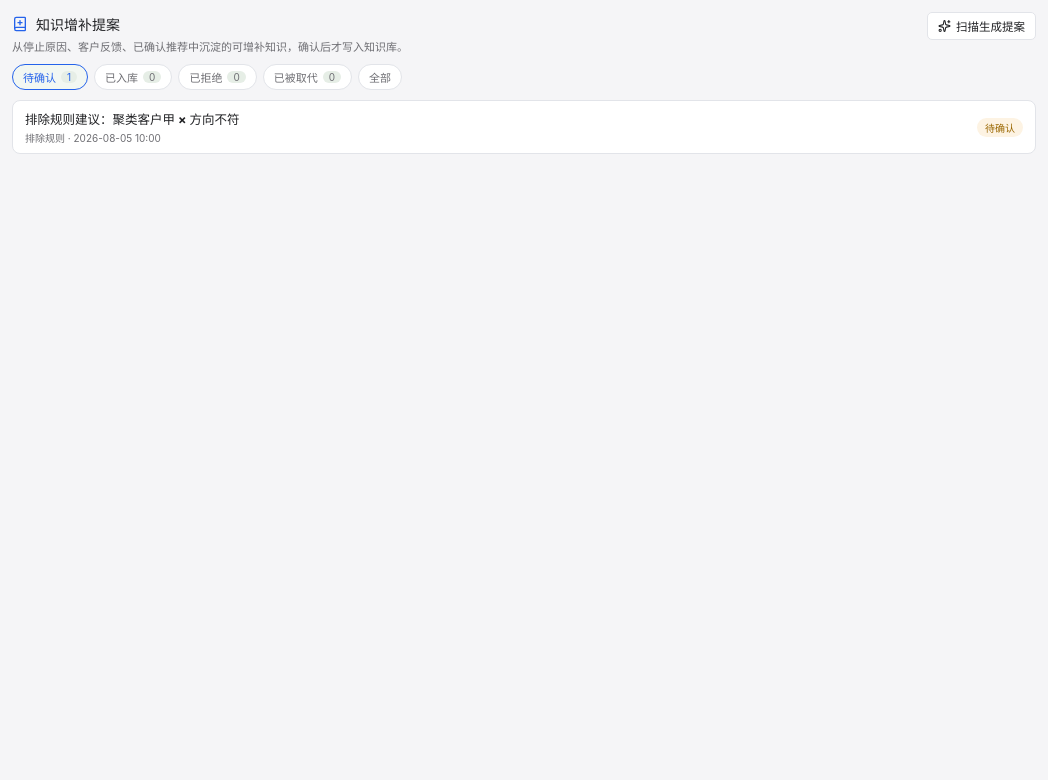
知识增补提案（knowledge_proposal） › 接受两段确认：预检展示影响面，确认后提交并回读刷新
Click the button with aria-label "查看提案：排除规则建议：聚类客户甲 × 方向不符".
click(132, 120)  # box [13,101,1035,153]
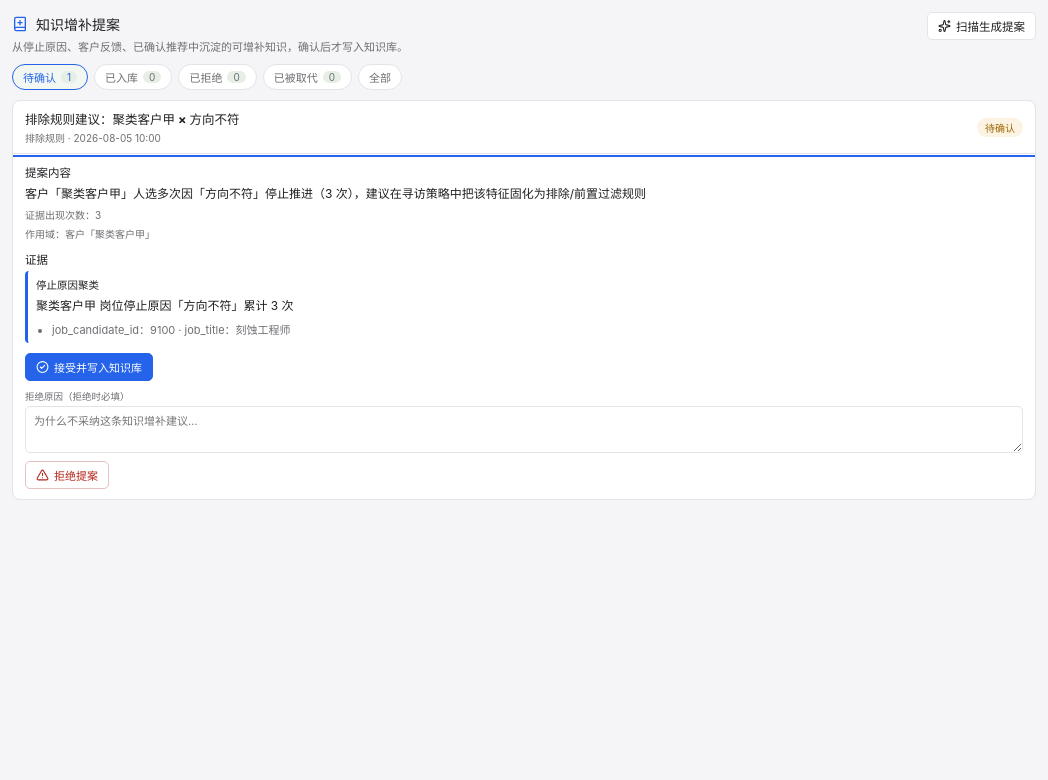
Expected: the heading "提案内容" is shown, [25,166,71,180]
# 第一段：预检，只展示影响面，不发 decision
Click the button "接受并写入知识库".
click(89, 367)  # box [25,353,153,381]
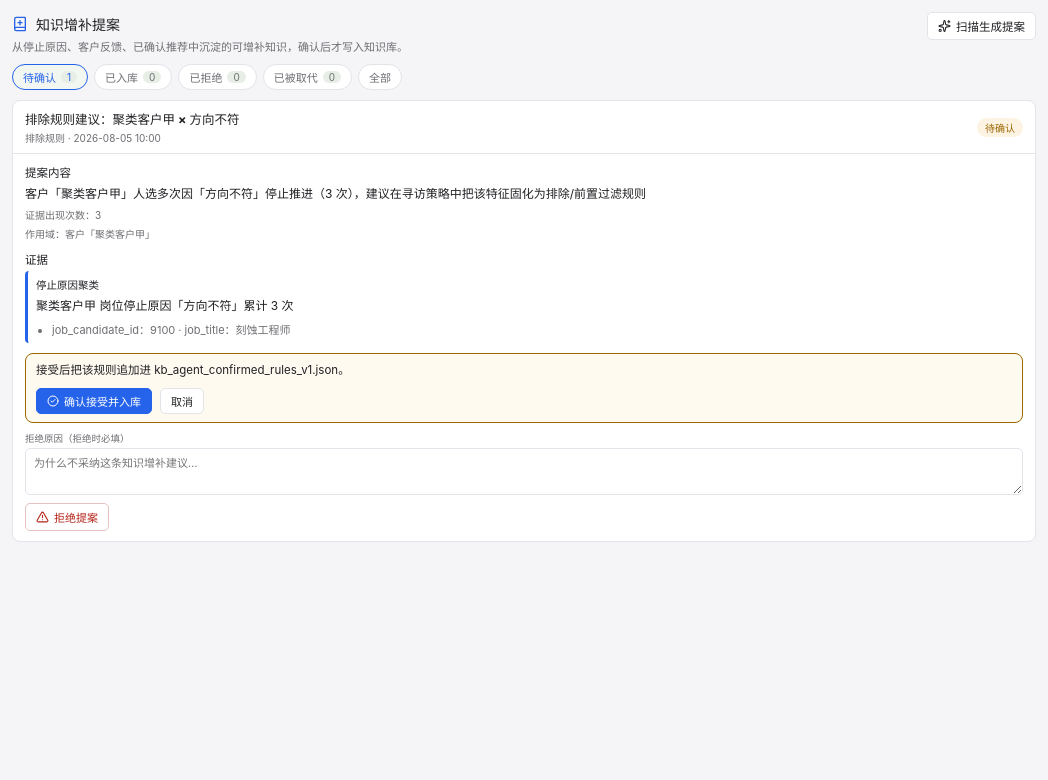
Expected: the text "接受后把该规则追加进 kb_agent_confirmed_rules_v1.json。" is shown, [36,363,350,377]
# 第二段：确认提交，回执展示并回读
Click the button "确认接受并入库".
click(94, 401)  # box [36,388,152,414]
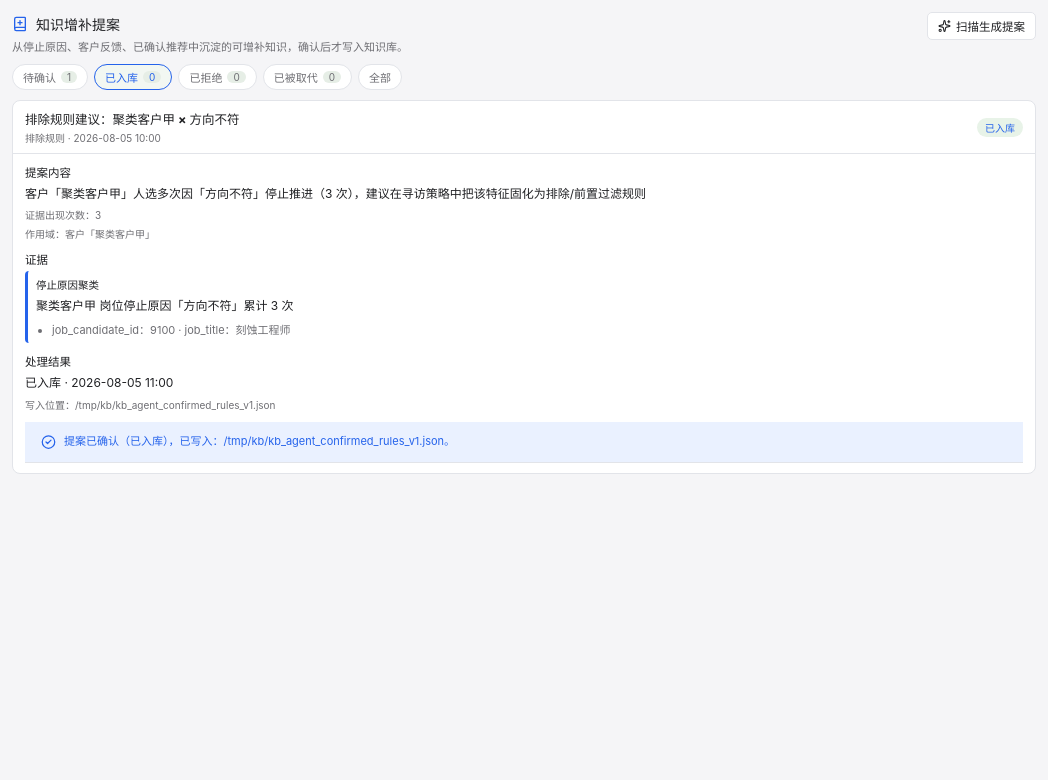
Expected: the text "提案已确认（已入库），已写入：/tmp/kb/kb_agent_confirmed_rules_v1.json。" is shown, [64,433,455,450]
Expected: the heading "处理结果" is shown, [25,355,71,369]
Expected: the text "已入库 · 2026-08-05 11:00" is shown, [25,375,173,390]
